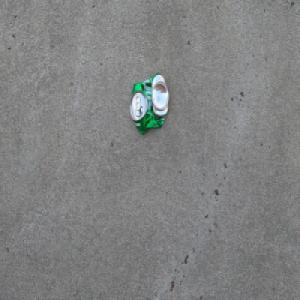SodaCan: (129, 72, 169, 135)
